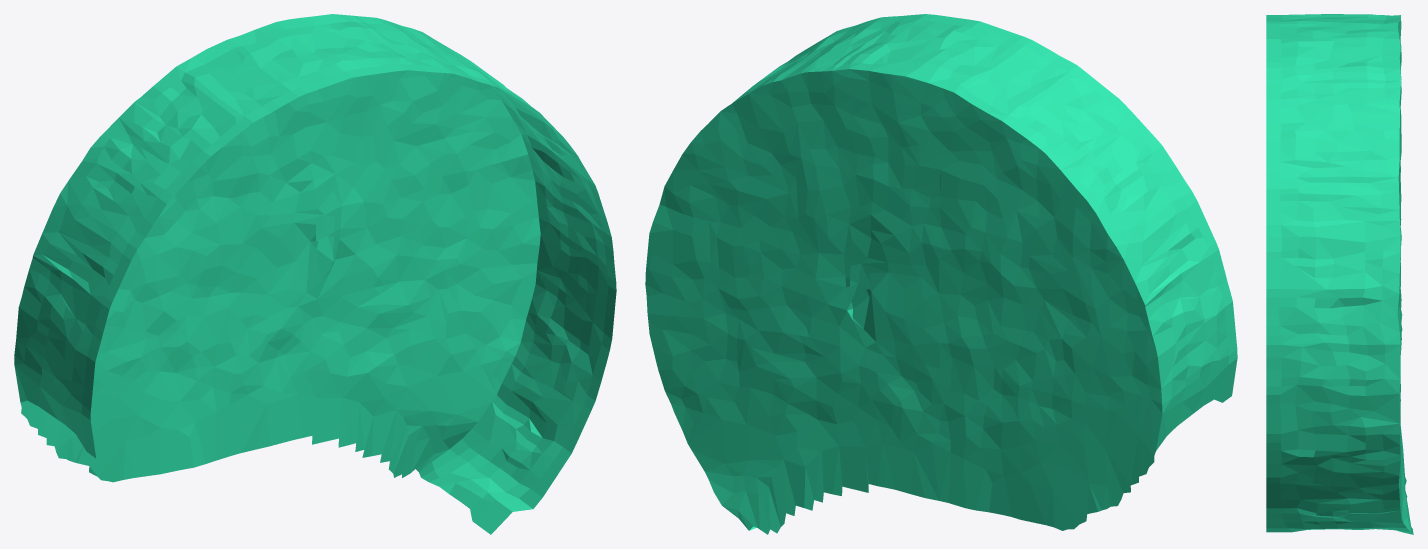
Rendered from Lake_Water.fbx.
3 renders of one model, left to right at view 1: azimuth 30°, elevation 25°; view 2: azimuth 150°, elevation 25°; view 3: azimuth 270°, elevation 25°, orthographic. The views are drawn at different scales.
Visible parts, largest first — view 1: WATER.001; view 2: WATER.001; view 3: WATER.001.
Part boxes in pixels (<box>): WATER.001: <box>14,14,616,534</box>; WATER.001: <box>645,14,1237,534</box>; WATER.001: <box>1266,14,1413,534</box>.
Bounding box in the file's own units: 2469 × 2216 × 683.
